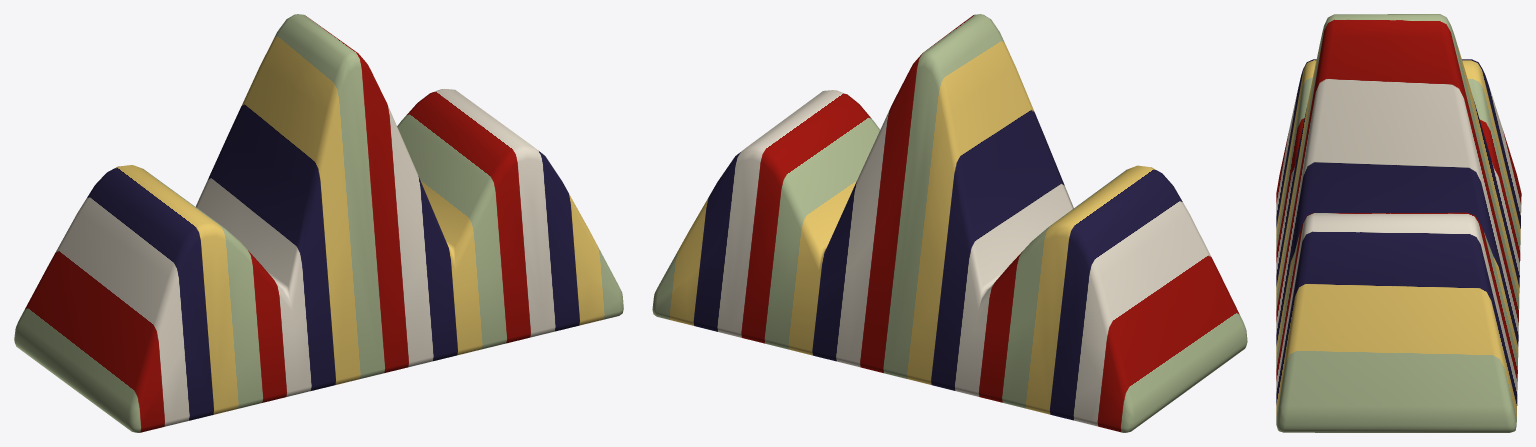
The model's file is C-10_Onstick.fbx.
3 renders of one model, left to right at view 1: azimuth 30°, elevation 25°; view 2: azimuth 150°, elevation 25°; view 3: azimuth 270°, elevation 25°, orthographic. The views are drawn at different scales.
Parts seen in each view (by area): view 1: C-10; view 2: C-10; view 3: C-10.
Boxes of the visible parts, <box> form: C-10: <box>14,14,623,432</box>; C-10: <box>652,14,1247,432</box>; C-10: <box>1276,14,1521,432</box>.
Bounding box in the file's own units: 139 × 59.95 × 81.35.
